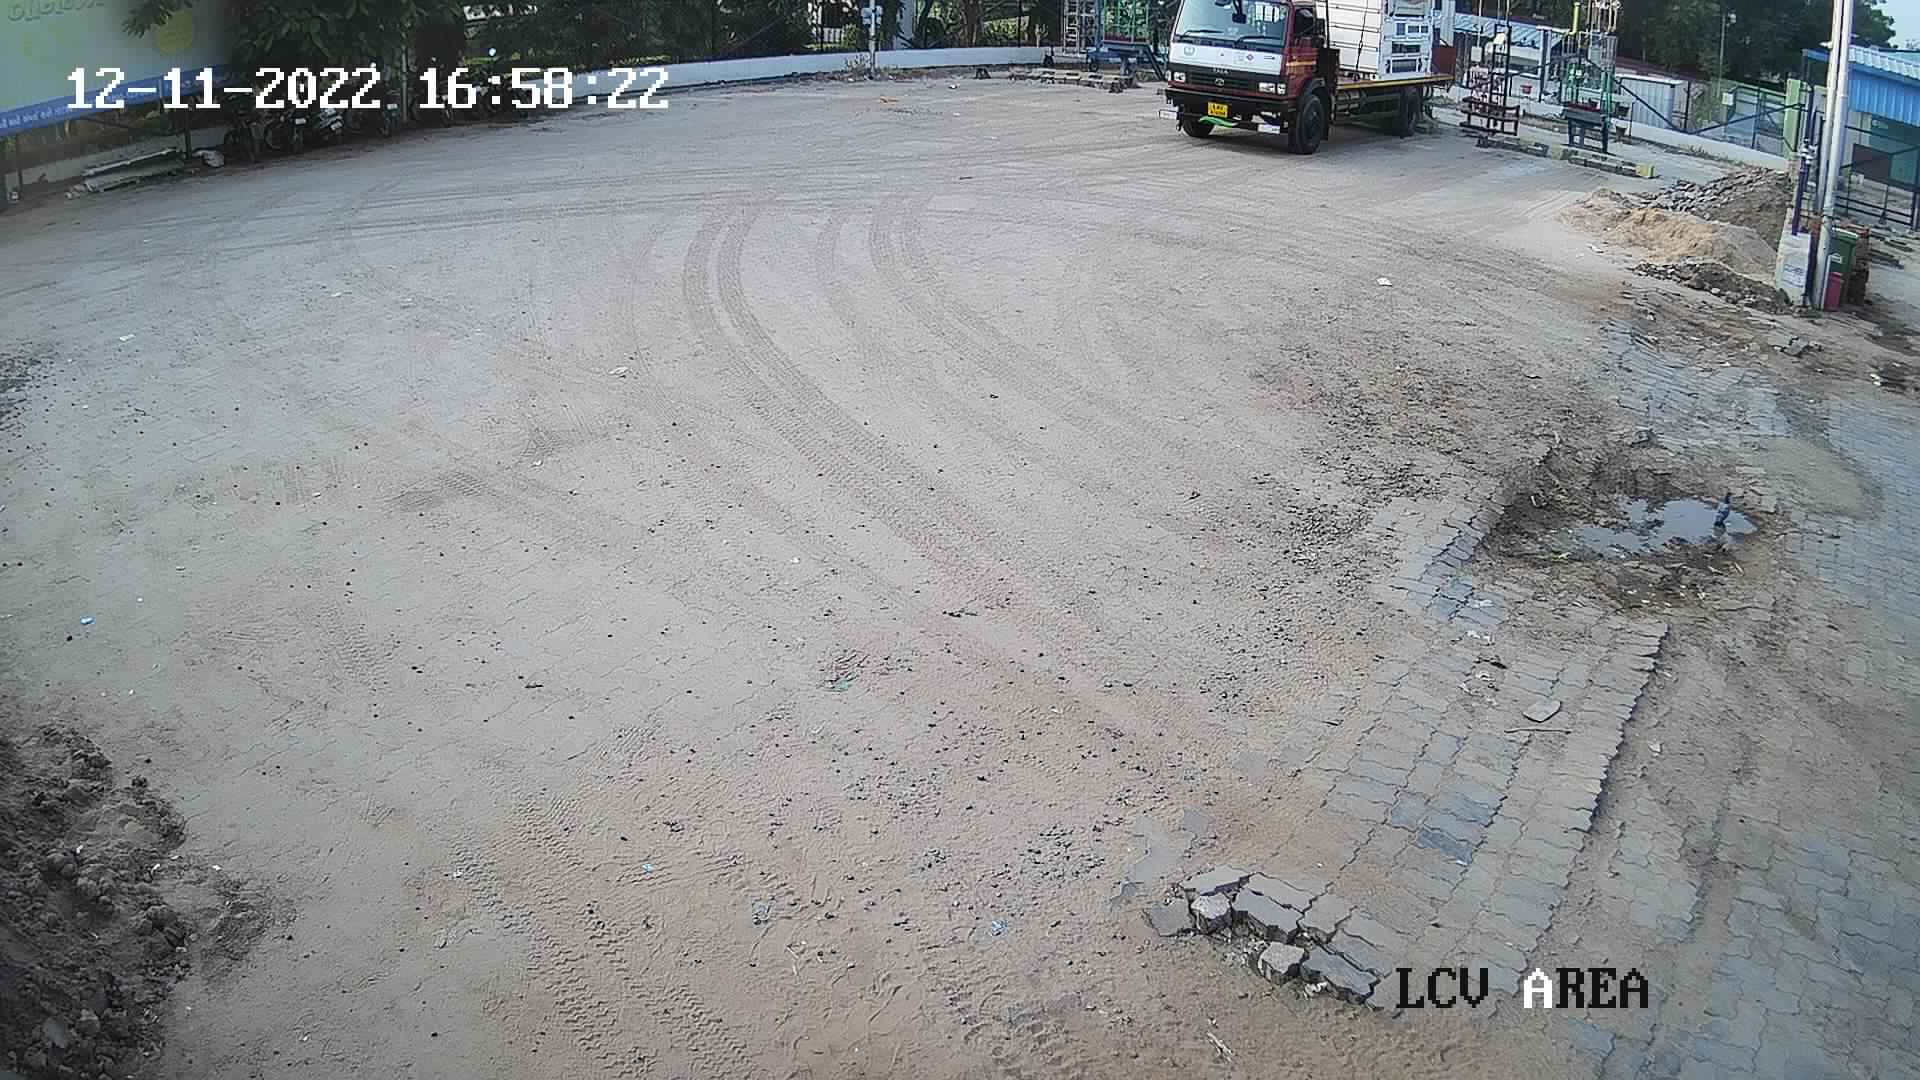HMV: (1130, 0, 1511, 154)
